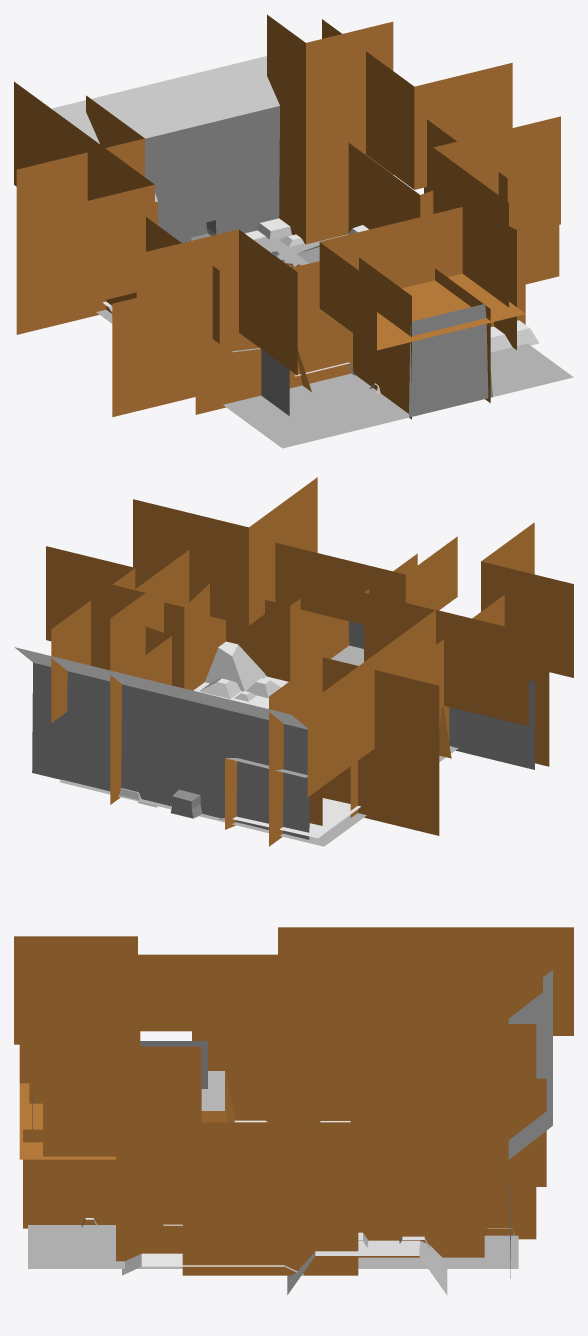
The picture shows the model from 3 angles, top to bottom: view 1: azimuth 30°, elevation 25°; view 2: azimuth 150°, elevation 25°; view 3: azimuth 270°, elevation 25°; orthographic projection. The views are drawn at different scales.
Visible parts, largest first — view 1: M2 Wall, M2 Ground; view 2: M2 Wall, M2 Ground; view 3: M2 Wall, M2 Ground.
Boxes of the visible parts, left/top/right/bottom form: M2 Wall: left=14, top=14, right=560, bottom=419; M2 Ground: left=96, top=218, right=573, bottom=448; M2 Wall: left=14, top=477, right=573, bottom=846; M2 Ground: left=59, top=641, right=458, bottom=846; M2 Wall: left=14, top=927, right=573, bottom=1278; M2 Ground: left=28, top=1120, right=518, bottom=1295.
Size of what is drawn, in the model's own units: 12822 by 5206 by 11888.
